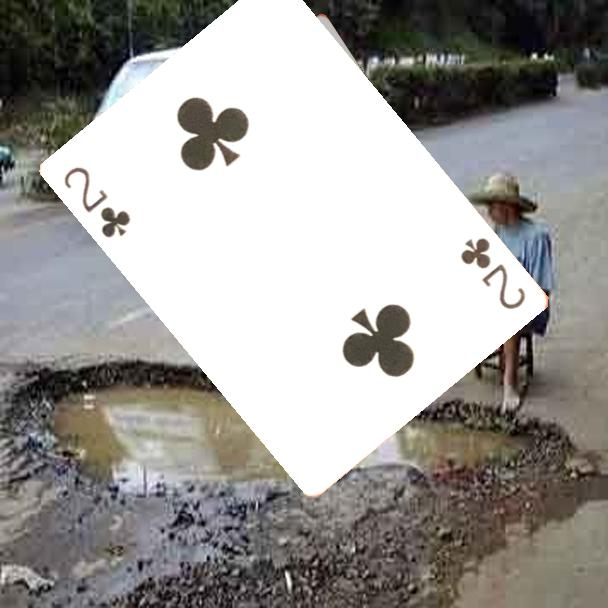c02: (60, 162, 134, 242), (457, 234, 530, 313)
